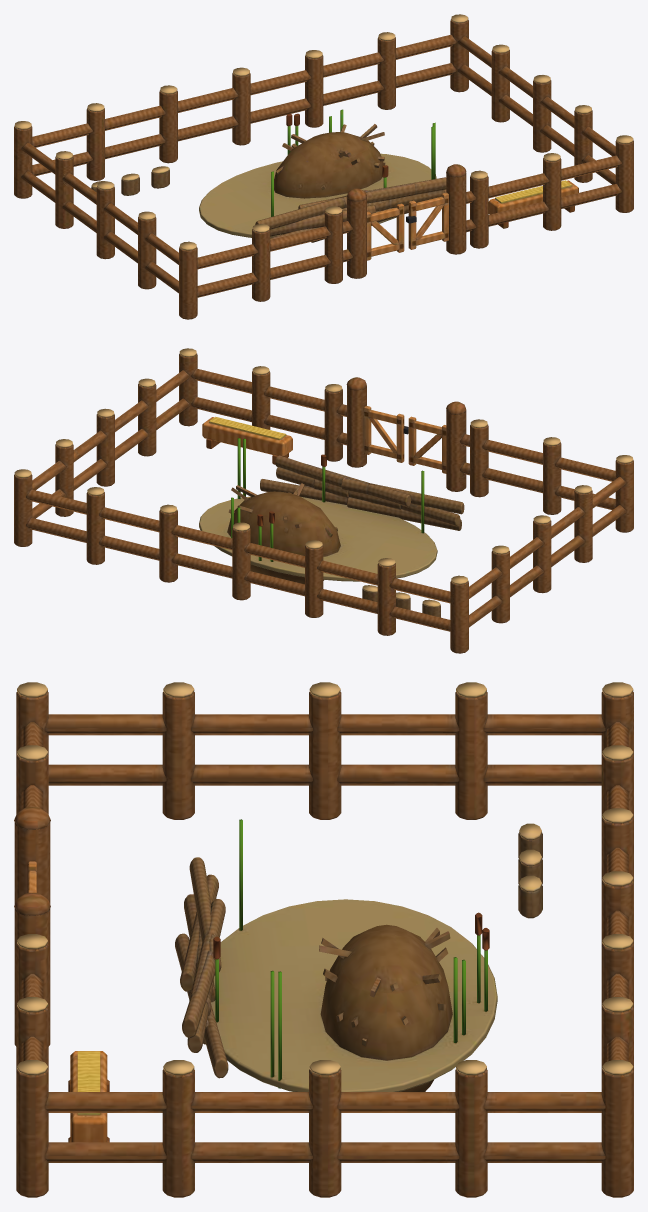
The model's file is beaver_pond.glb.
The picture shows the model from 3 angles, top to bottom: view 1: azimuth 30°, elevation 25°; view 2: azimuth 150°, elevation 25°; view 3: azimuth 270°, elevation 25°; orthographic projection. The views are drawn at different scales.
Visible parts, largest first — view 1: beaver_pond, gate1, gate0; view 2: beaver_pond, gate1, gate0; view 3: beaver_pond.
Part boxes in pixels (<box>): beaver_pond: <box>14,14,633,319</box>; gate1: <box>406,192,448,249</box>; gate0: <box>367,203,404,260</box>; beaver_pond: <box>14,348,633,653</box>; gate1: <box>364,405,408,462</box>; gate0: <box>408,416,446,473</box>; beaver_pond: <box>14,682,633,1197</box>.
Bounding box in the file's own units: 3 × 0.8101 × 2.01.
Materials: 1 (1 with a texture image).
